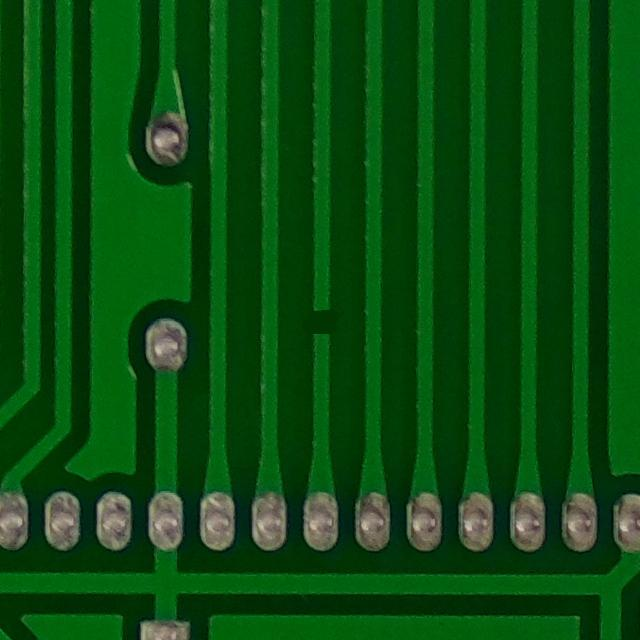open_circuit: (301, 297, 339, 344)
